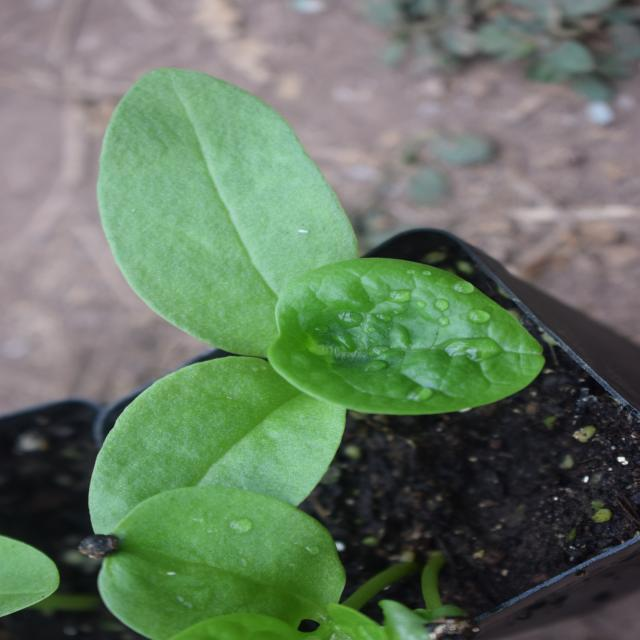Ceylon spinach: (50, 52, 563, 500)
